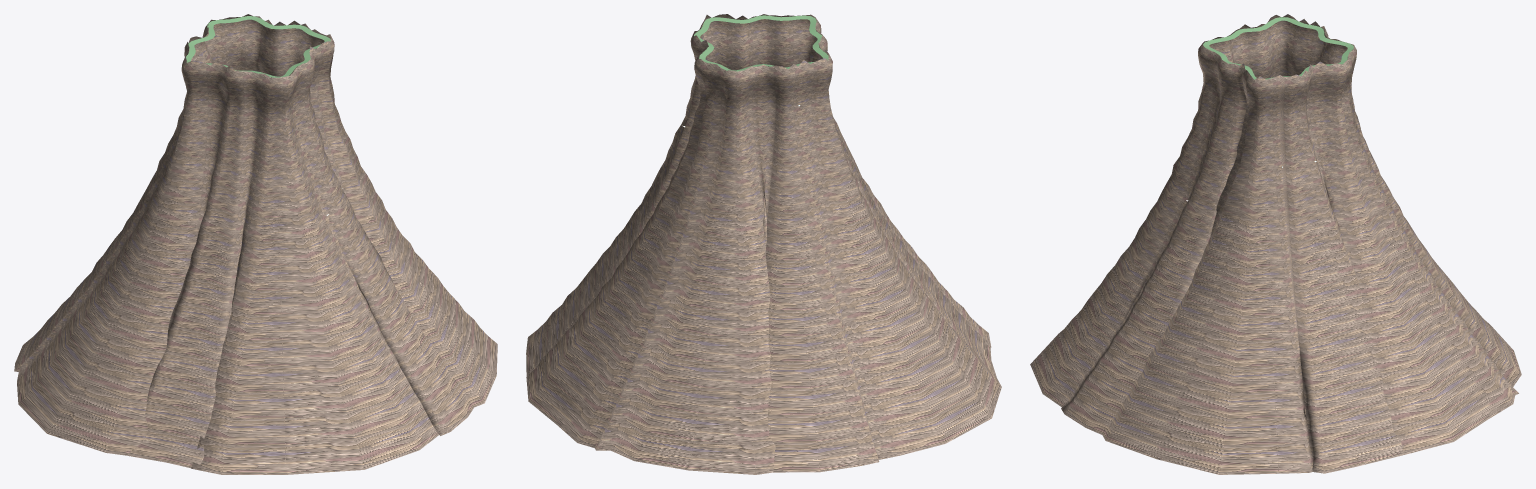
Rendered from CliffWall_stack_05.glb.
3 renders of one model, left to right at view 1: azimuth 30°, elevation 25°; view 2: azimuth 150°, elevation 25°; view 3: azimuth 270°, elevation 25°, orthographic.
Visible parts, largest first — view 1: CliffWall_stack_05-rock0, CliffWall_stack_05-lip0; view 2: CliffWall_stack_05-rock0, CliffWall_stack_05-lip0; view 3: CliffWall_stack_05-rock0, CliffWall_stack_05-lip0.
Boxes of the visible parts, <box> form: CliffWall_stack_05-rock0: <box>14,14,497,474</box>; CliffWall_stack_05-lip0: <box>186,16,330,77</box>; CliffWall_stack_05-rock0: <box>526,14,1001,474</box>; CliffWall_stack_05-lip0: <box>694,15,828,71</box>; CliffWall_stack_05-rock0: <box>1030,14,1521,474</box>; CliffWall_stack_05-lip0: <box>1203,17,1353,79</box>.
Bounding box in the file's own units: 686 × 505 × 686.
Materials: 4 (1 with a texture image).
